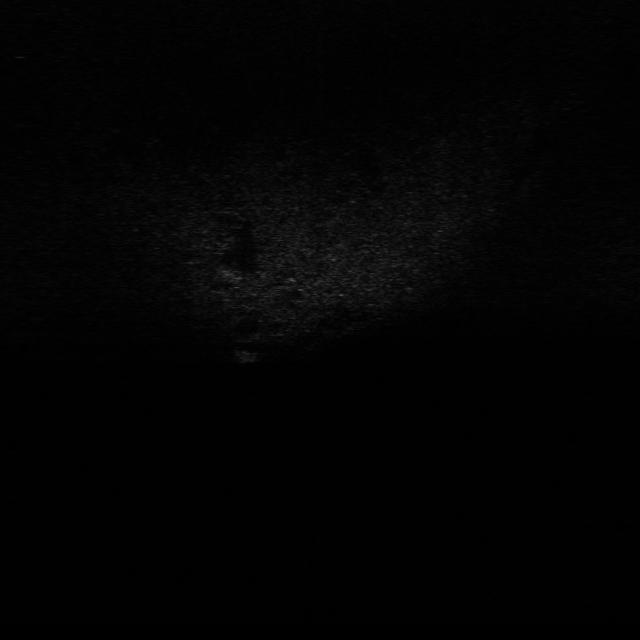cube: (230, 342, 266, 368)
